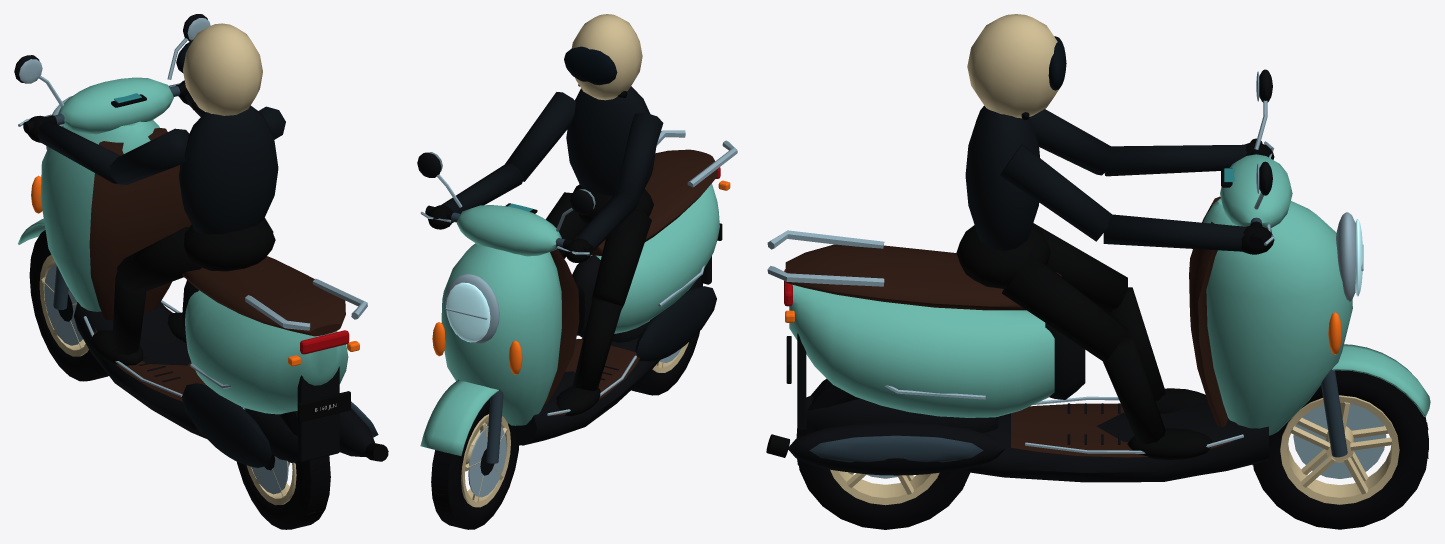
File: Body.fbx
The picture shows the model from 3 angles, left to right: view 1: azimuth 30°, elevation 25°; view 2: azimuth 150°, elevation 25°; view 3: azimuth 270°, elevation 25°; orthographic projection. The views are drawn at different scales.
Parts seen in each view (by area): view 1: Body_Mesh, Helmeted_Traffic_Rider, Steering_Pivot_Mesh, Wheel_Rear_Mesh, Wheel_Front_Mesh, TailLights_Mesh; view 2: Body_Mesh, Helmeted_Traffic_Rider, Steering_Pivot_Mesh, Wheel_Front_Mesh, Headlights_Mesh, Wheel_Rear_Mesh, Indicator_Front_L_Lens; view 3: Body_Mesh, Helmeted_Traffic_Rider, Wheel_Front_Mesh, Steering_Pivot_Mesh, Wheel_Rear_Mesh, Headlights_Mesh.
Part boxes in pixels (x1,y1,x2,y2): Body_Mesh: (40, 120, 388, 467); Helmeted_Traffic_Rider: (27, 23, 285, 365); Steering_Pivot_Mesh: (14, 14, 210, 309); Wheel_Rear_Mesh: (237, 411, 330, 529); Wheel_Front_Mesh: (29, 230, 108, 381); TailLights_Mesh: (300, 330, 349, 354); Body_Mesh: (441, 130, 737, 445); Helmeted_Traffic_Rider: (428, 14, 663, 416); Steering_Pivot_Mesh: (417, 152, 595, 463); Wheel_Front_Mesh: (431, 398, 519, 529); Headlights_Mesh: (445, 274, 499, 343); Wheel_Rear_Mesh: (631, 282, 702, 395); Indicator_Front_L_Lens: (508, 340, 522, 374); Body_Mesh: (766, 196, 1352, 482); Helmeted_Traffic_Rider: (956, 14, 1274, 459); Wheel_Front_Mesh: (1252, 370, 1428, 529); Steering_Pivot_Mesh: (1220, 69, 1430, 457); Wheel_Rear_Mesh: (796, 378, 969, 529); Headlights_Mesh: (1336, 212, 1363, 301).
Size of the model in its own units: 69.4 by 154 by 183.
